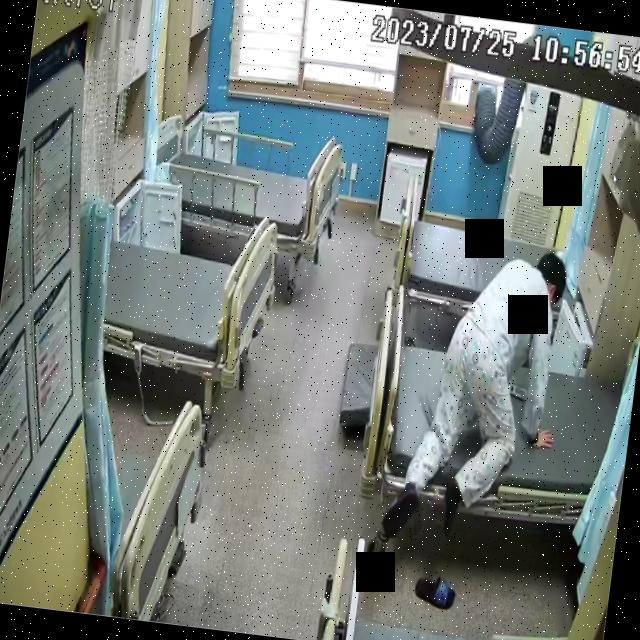bed: (355, 282, 632, 535), (388, 163, 591, 341), (99, 202, 282, 386), (162, 122, 342, 258)
danger: (370, 237, 578, 552)
patient: (372, 236, 580, 556)
